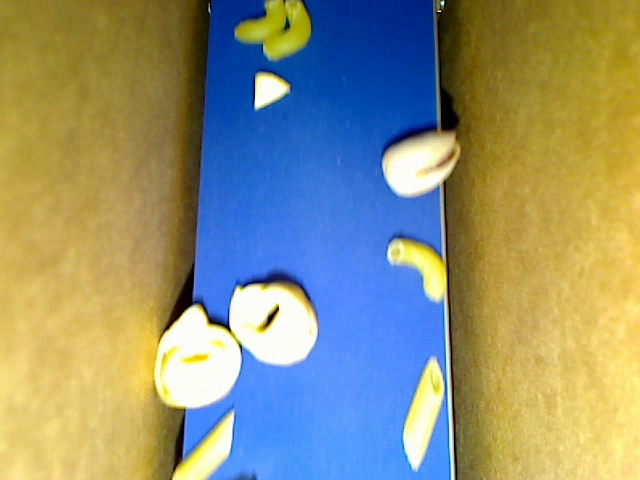elbow: (384, 237, 447, 303), (263, 1, 311, 62), (234, 1, 285, 48)
penne: (400, 354, 446, 472), (172, 407, 235, 479)
tortellini: (153, 304, 242, 410), (230, 282, 318, 368)
